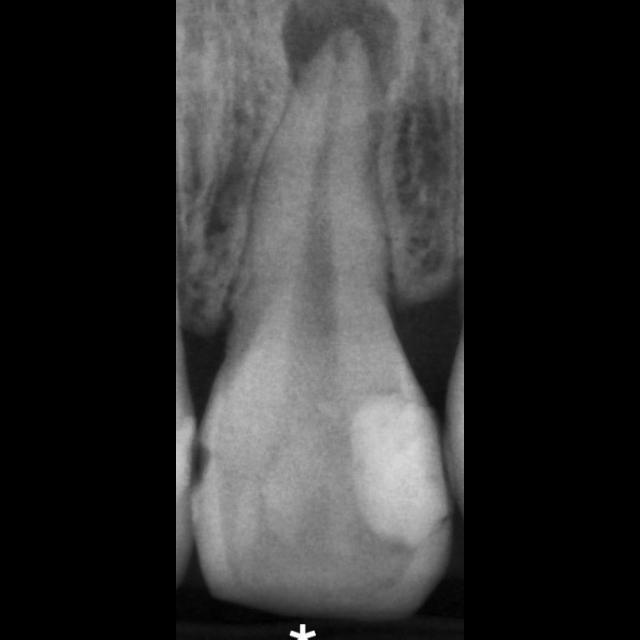tooth: (191, 25, 456, 622)
